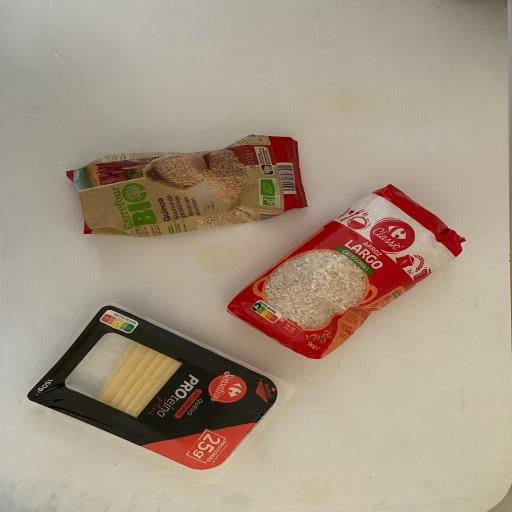cheese: (23, 298, 287, 476)
quinoa: (64, 130, 309, 239)
rice: (225, 179, 472, 360)
